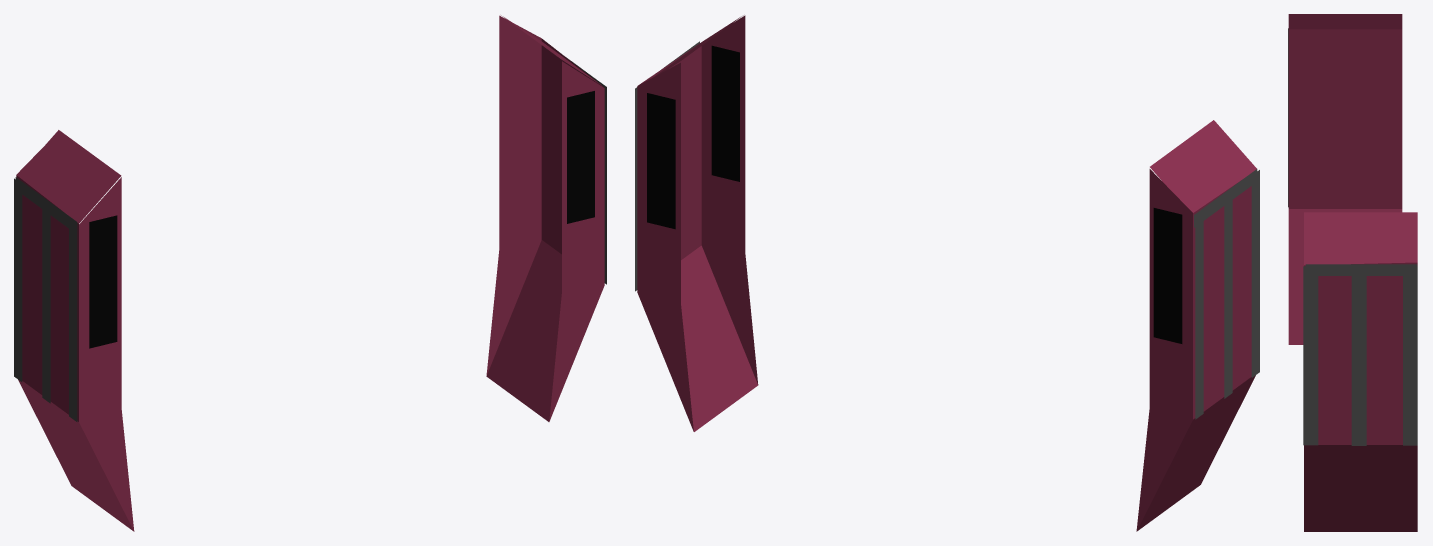
Rendered from lnwr-duckets-lms.dae.
3 views of the same model, side by side, from view 1: azimuth 30°, elevation 25°; view 2: azimuth 150°, elevation 25°; view 3: azimuth 270°, elevation 25° (orthographic). The views are drawn at different scales.
Parts seen in each view (by area): view 1: Plane_123_001, Plane_123, Plane_020, Plane_405, Plane_120, Plane_121, Plane_122; view 2: Plane_123_001, Plane_123, Plane_019, Plane_023, Plane_022, Plane_120, Plane_121, Plane_122; view 3: Plane_123_001, Plane_123, Plane_120_001, Plane_122_001, Plane_121_001, Plane_398, Plane_122.
Boxes of the visible parts, x1,y1,x2,y2 form: Plane_123_001: (486, 15, 604, 421); Plane_123: (16, 130, 134, 531); Plane_020: (89, 215, 117, 348); Plane_405: (567, 91, 594, 223); Plane_120: (42, 199, 50, 403); Plane_121: (14, 178, 22, 381); Plane_122: (69, 219, 77, 421); Plane_123_001: (637, 15, 758, 431); Plane_123: (1136, 120, 1256, 531); Plane_019: (1153, 208, 1182, 343); Plane_023: (647, 93, 675, 229); Plane_022: (711, 45, 739, 181); Plane_120: (1224, 190, 1232, 398); Plane_121: (1195, 211, 1203, 419); Plane_122: (1251, 170, 1259, 377); Plane_123_001: (1304, 212, 1417, 531); Plane_123: (1288, 14, 1402, 344); Plane_120_001: (1351, 266, 1366, 445); Plane_122_001: (1303, 266, 1318, 445); Plane_121_001: (1403, 266, 1417, 445); Plane_398: (1305, 264, 1417, 275); Plane_122: (1288, 28, 1288, 207).
Bounding box in the file's own units: 2.28 × 0.5296 × 1.45.
